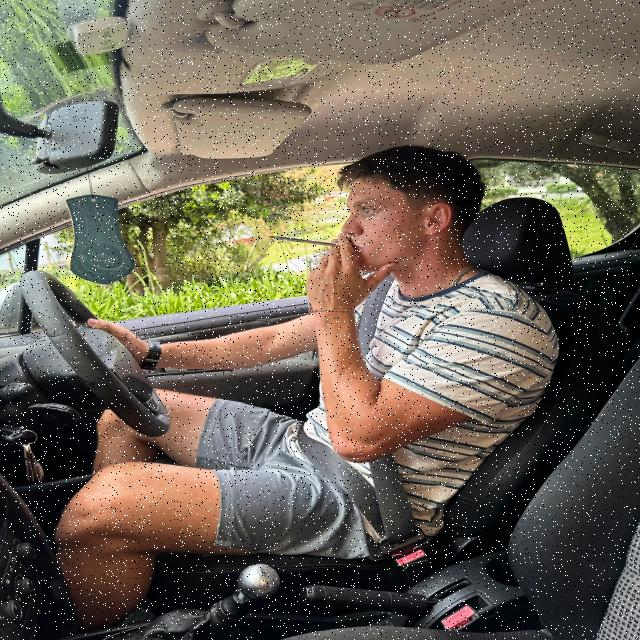Cigarette: (264, 232, 348, 252)
Seatbelt: (319, 258, 449, 564)
